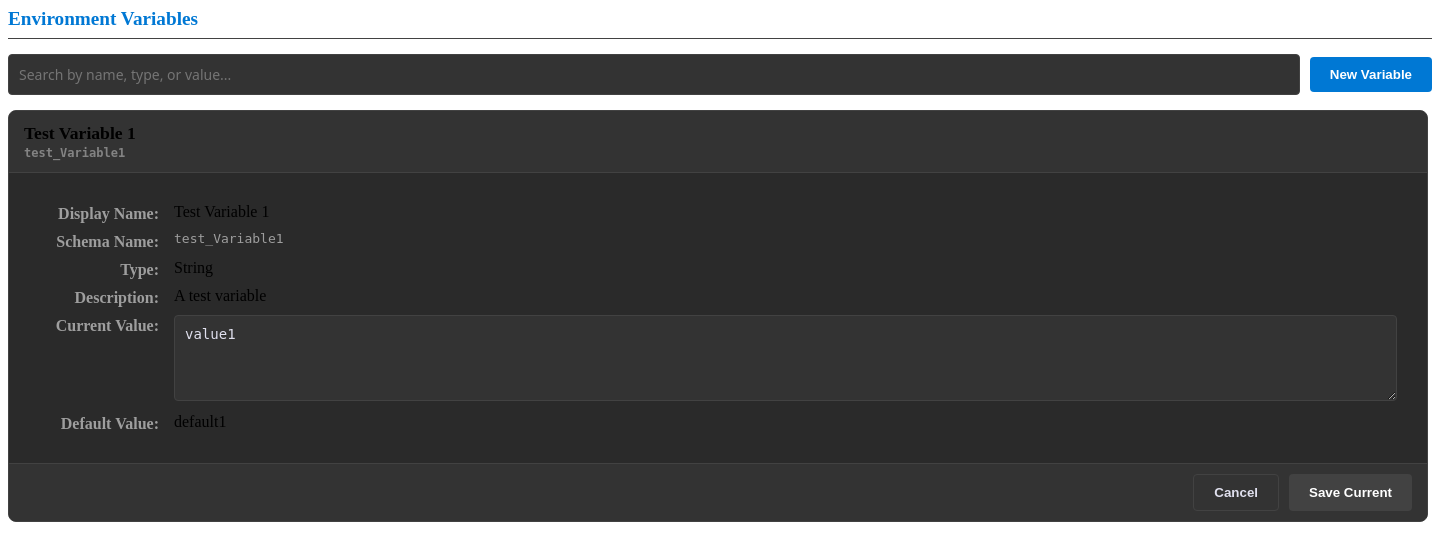
Test: EnvVarsTab › edit mode - current value › should enable save button when value changes
Replace the text in the text box with class "env-var-edit-area" with "new value" at [786, 358], box [174,315,1397,401]
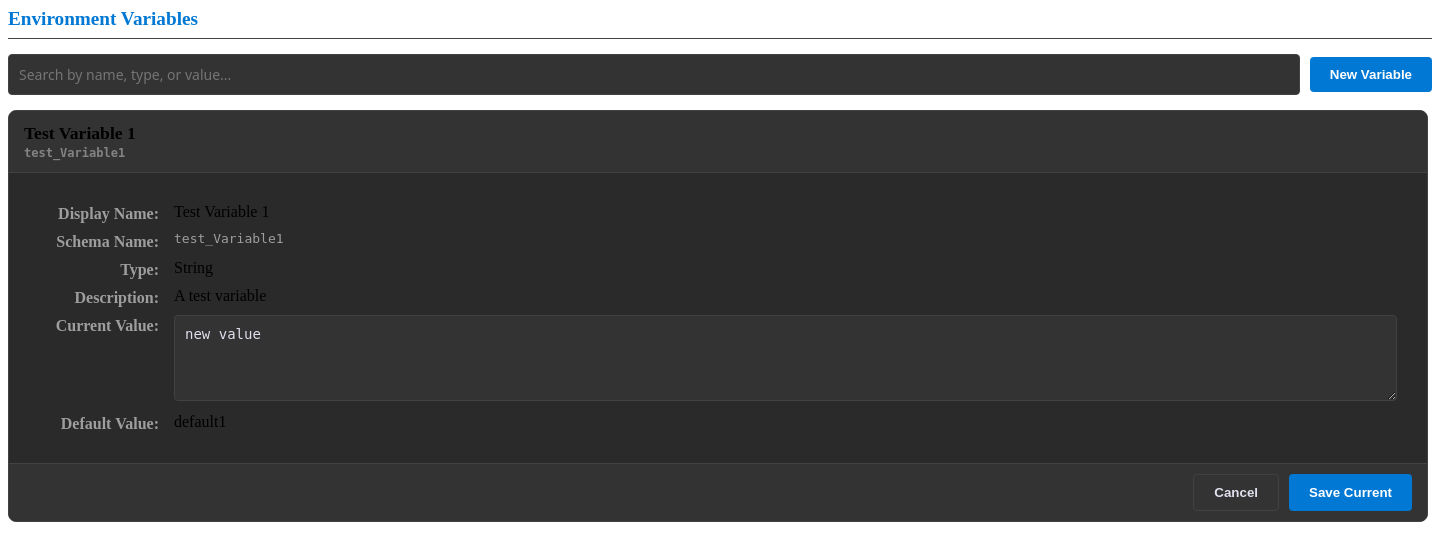
Now the button with class "save-btn" is enabled, box [1289,474,1412,511]
